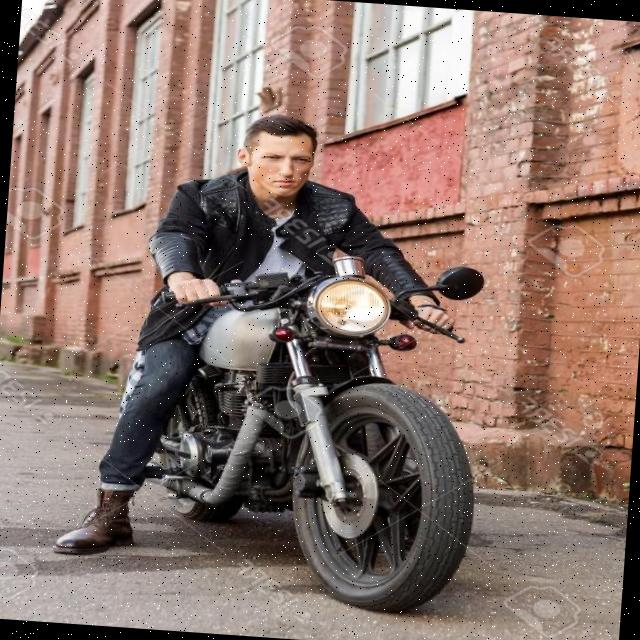No helmet: (238, 110, 320, 200)
